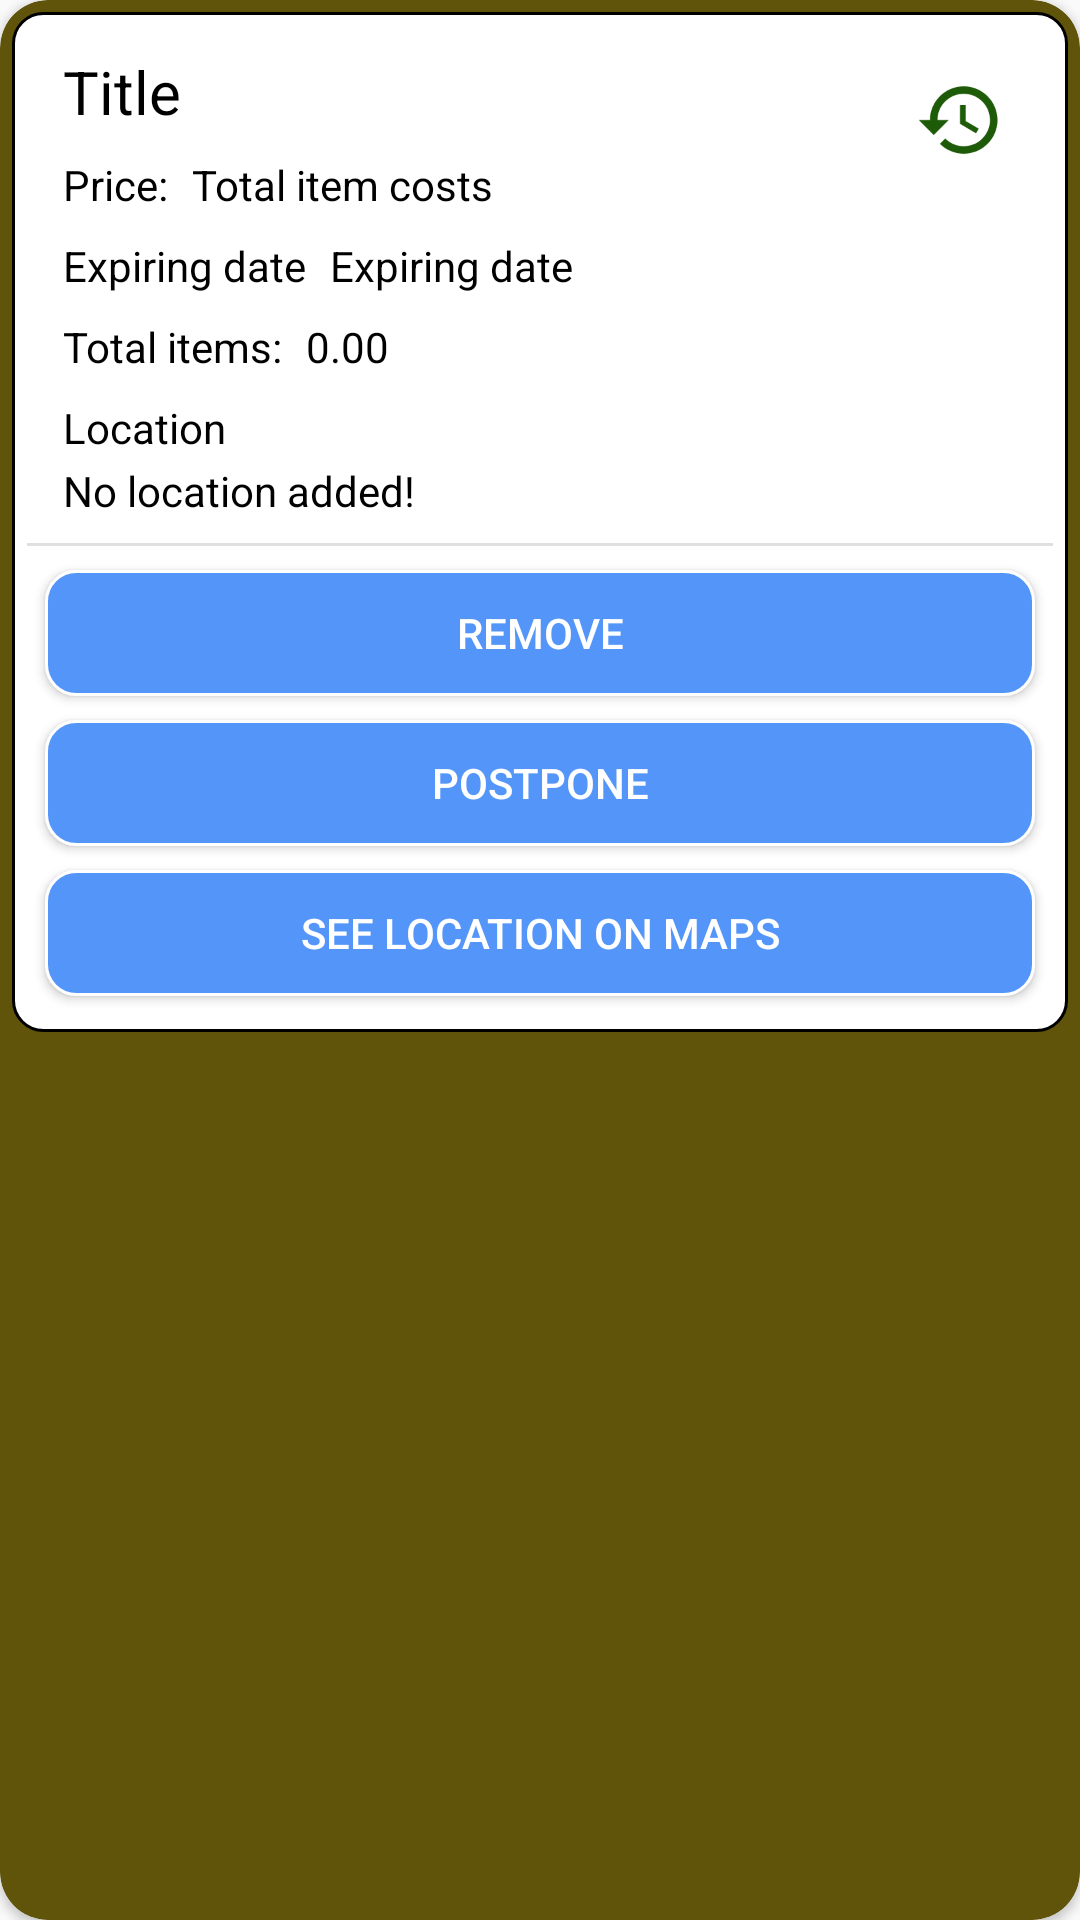

Icon bounding boxes for this 1080x1920 phone screenshot, format bbox=[x1, y1, x2, y2]:
History icon: bbox=[919, 86, 998, 154]
